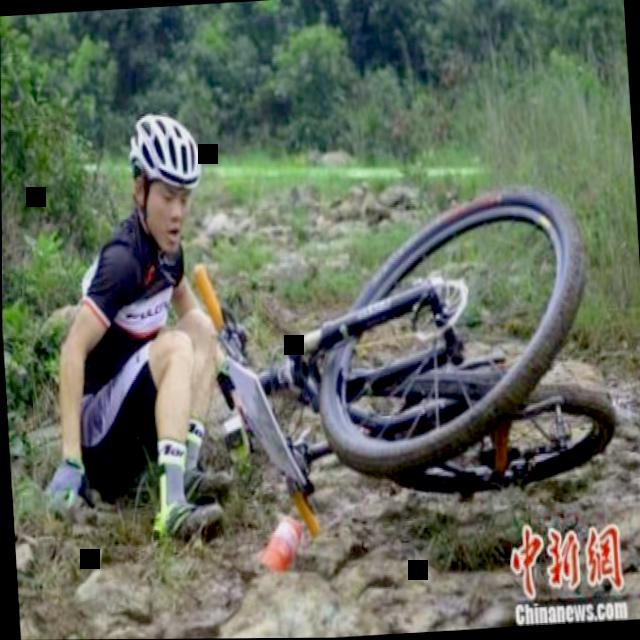Fall-Detected: (13, 84, 254, 573)
